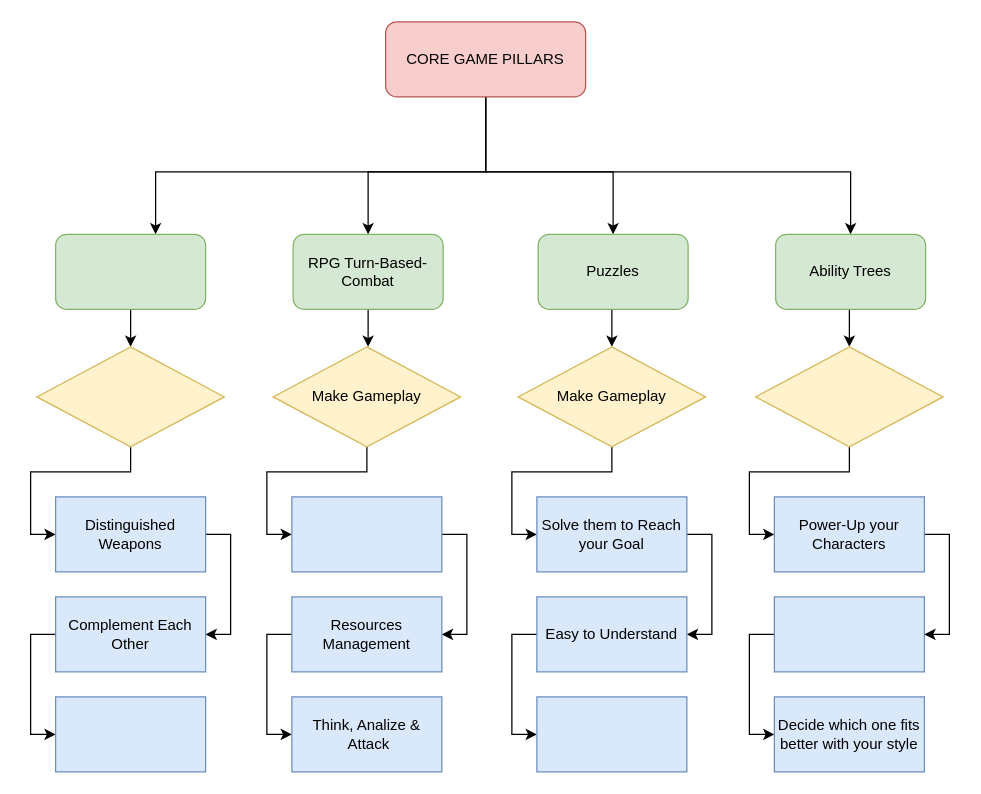
The diagram is 981 pixels wide and 794 high, and some of its shapes have lost their labels. The box of each missing label's shape, as (x1, y1, x2, y2) in pixels:
4 Unique Characters: (54, 233, 206, 309)
Define & Make Gameplay: (754, 346, 943, 447)
Define Gameplay: (36, 346, 224, 447)
Harder to Solve: (536, 696, 687, 772)
Multiple Combat Choices: (291, 496, 442, 572)
Specific Abilities for Each Character: (54, 696, 206, 772)
Unique Abilities: (773, 596, 924, 672)
